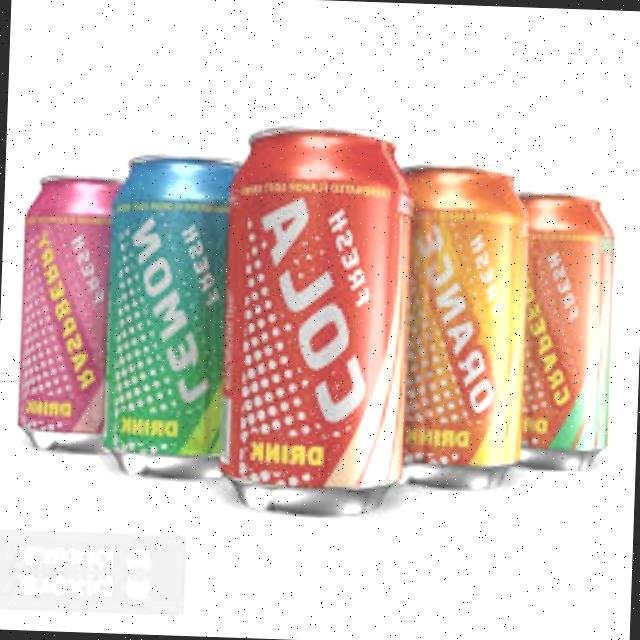Metal: (216, 120, 414, 518), (389, 161, 528, 494), (101, 152, 241, 482), (508, 188, 620, 471), (12, 172, 124, 454)
